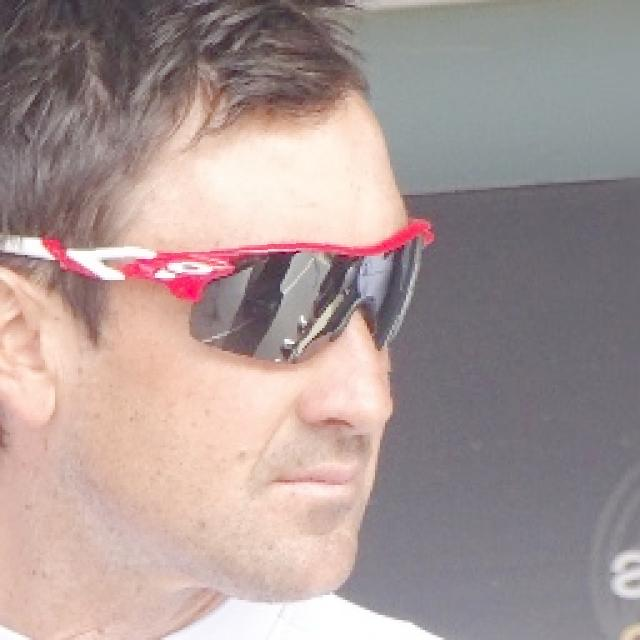glasses: (60, 207, 448, 380)
